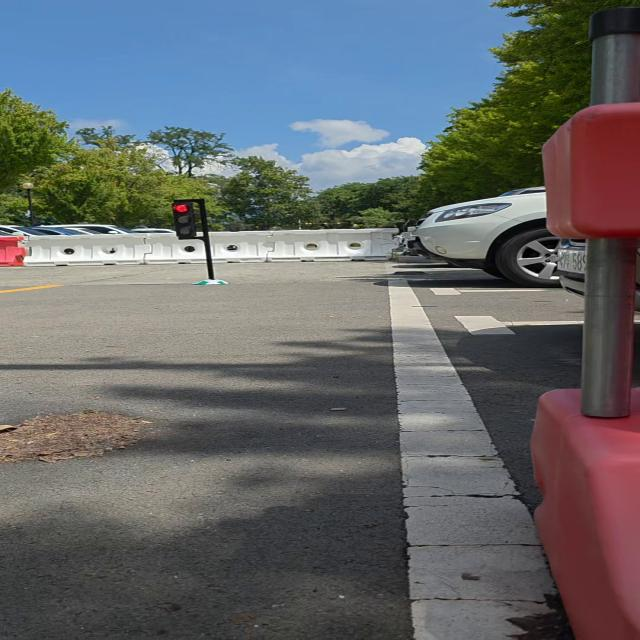red: (168, 198, 202, 239)
